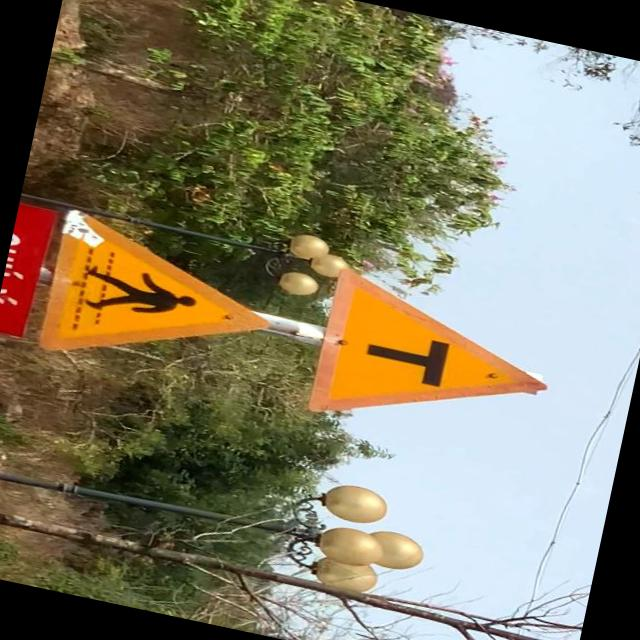W-207a: (303, 263, 563, 457)
W-224: (30, 202, 285, 400)
